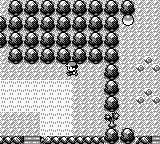main: (65, 62, 79, 76)
mo: (104, 112, 119, 127)
no-caminable: (0, 0, 136, 111), (104, 128, 134, 143)
poke-ball: (121, 15, 135, 26)
salto: (41, 136, 103, 143), (0, 136, 24, 143), (137, 137, 152, 143)
